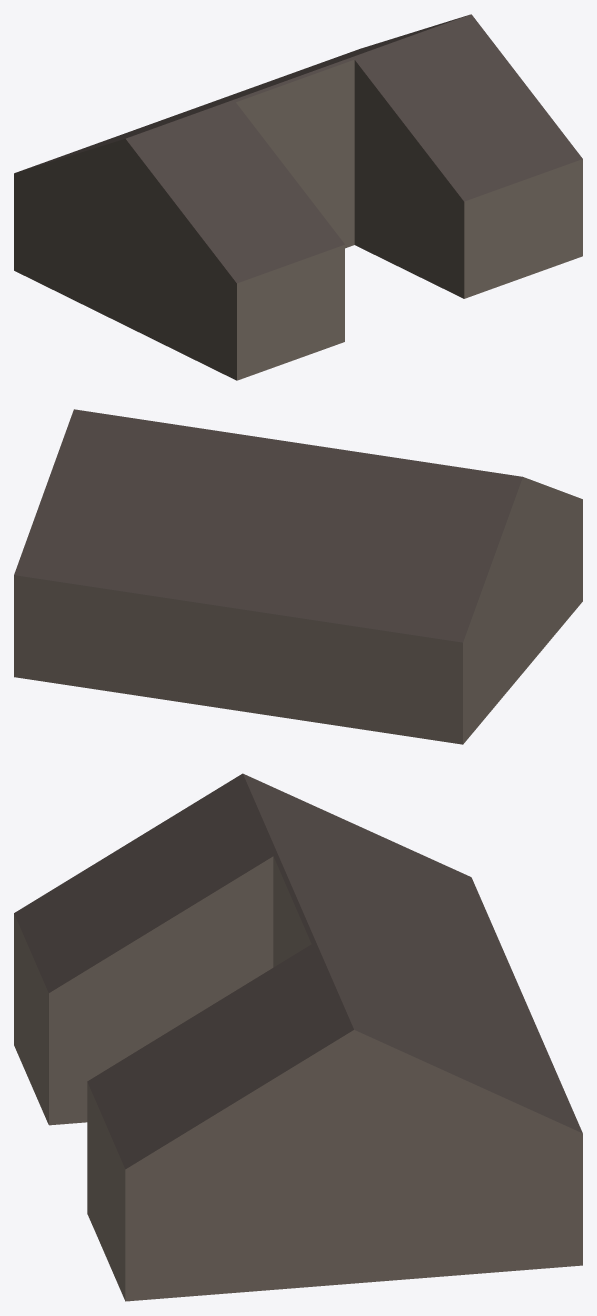
The picture shows the model from 3 angles, top to bottom: view 1: azimuth 30°, elevation 25°; view 2: azimuth 150°, elevation 25°; view 3: azimuth 270°, elevation 25°; orthographic projection. The views are drawn at different scales.
Parts seen in each view (by area): view 1: HP-w858807451; view 2: HP-w858807451; view 3: HP-w858807451.
Part boxes in pixels (left/top/right/bottom): HP-w858807451: left=14, top=14, right=582, bottom=380; HP-w858807451: left=14, top=409, right=582, bottom=744; HP-w858807451: left=14, top=773, right=582, bottom=1301.
Bounding box in the file's own units: 14.25 × 5.77 × 11.72.
